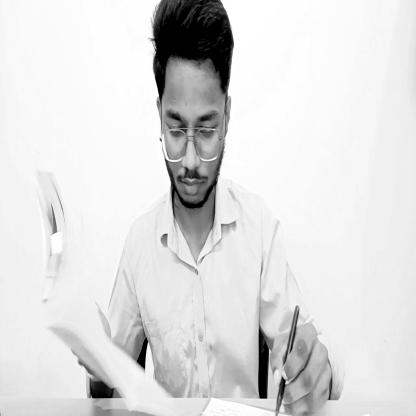Normal: (153, 2, 237, 216)
